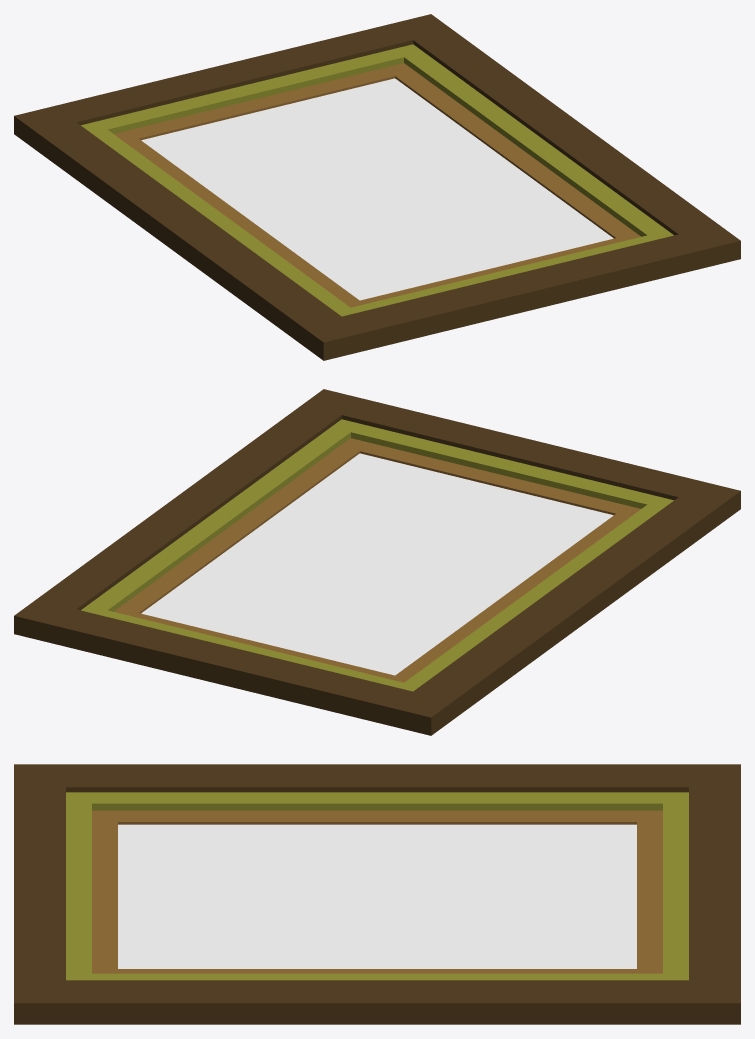
Rendered from Portrait Frame.fbx.
The picture shows the model from 3 angles, top to bottom: view 1: azimuth 30°, elevation 25°; view 2: azimuth 150°, elevation 25°; view 3: azimuth 270°, elevation 25°; orthographic projection. The views are drawn at different scales.
Visible parts, largest first — view 1: Plane; view 2: Plane; view 3: Plane.
Part boxes in pixels (x1,y1,x2,y2): Plane: (14,14,740,360); Plane: (14,389,740,735); Plane: (14,764,740,1024).
Bounding box in the file's own units: 332 × 13.94 × 427.
